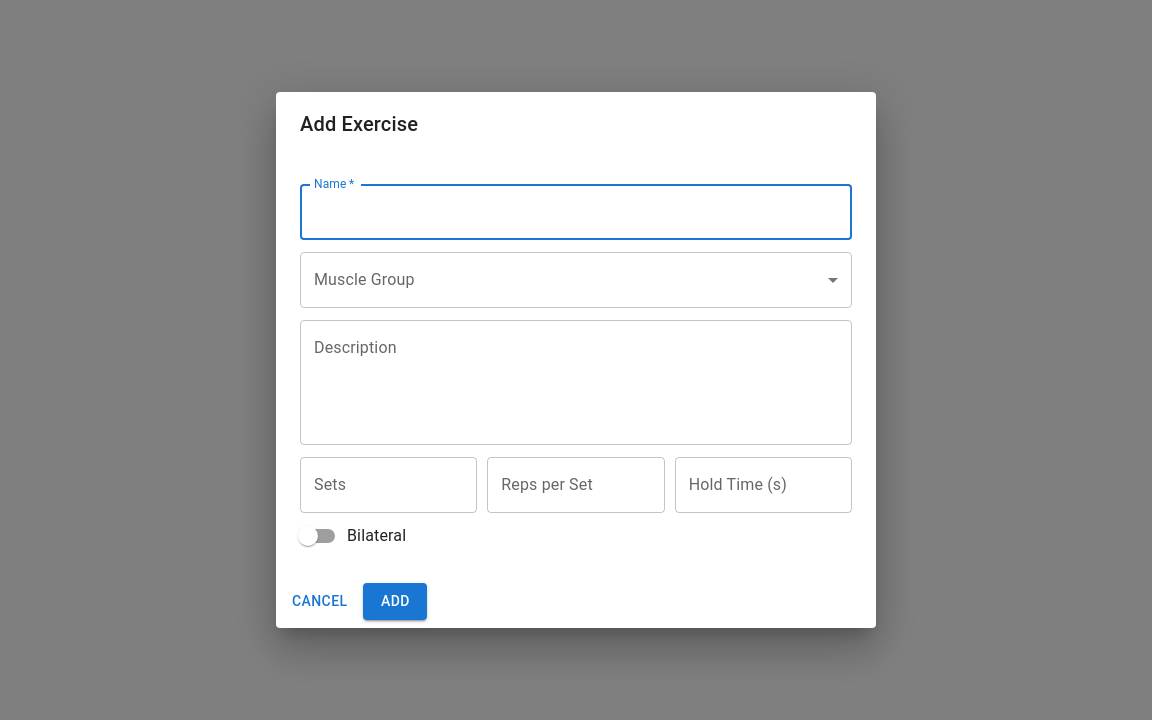
ExerciseModal › renders all muscle group options
Press the mouse on the dropdown named "Muscle Group": point(576, 280) x1=300 y1=252 x2=852 y2=308
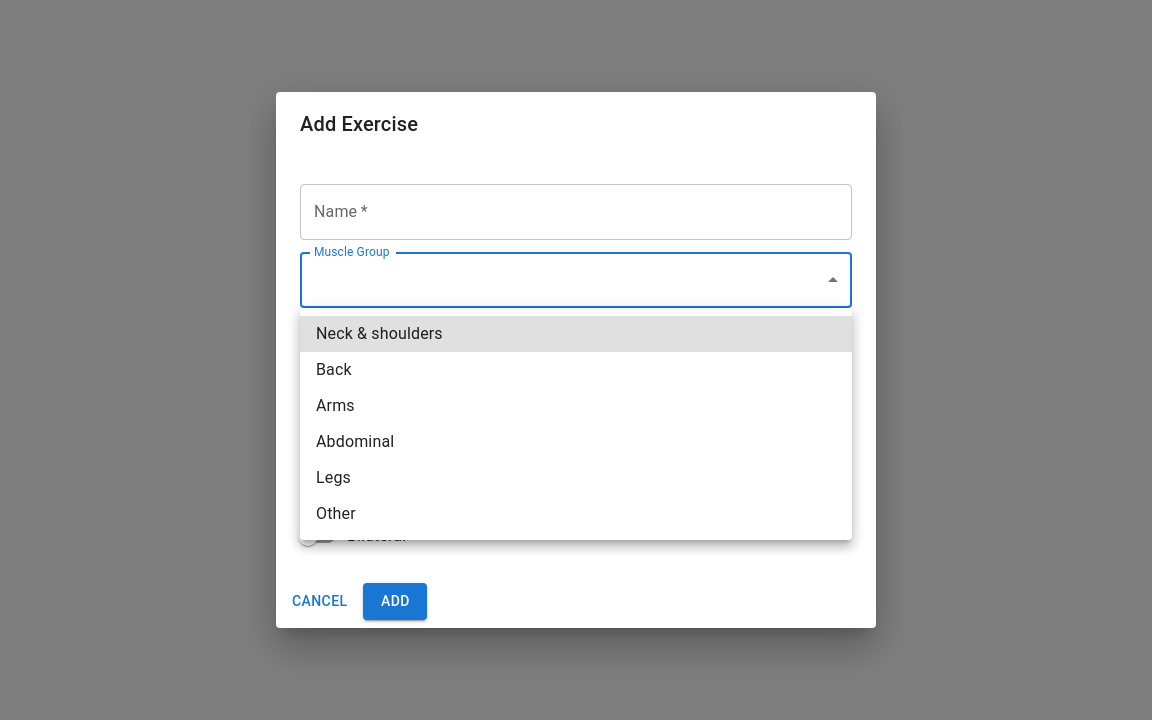
Expected: the option "Neck & shoulders" is shown, x1=300 y1=316 x2=852 y2=352
Expected: the option "Back" is shown, x1=316 y1=360 x2=352 y2=379
Expected: the option "Arms" is shown, x1=316 y1=396 x2=355 y2=415
